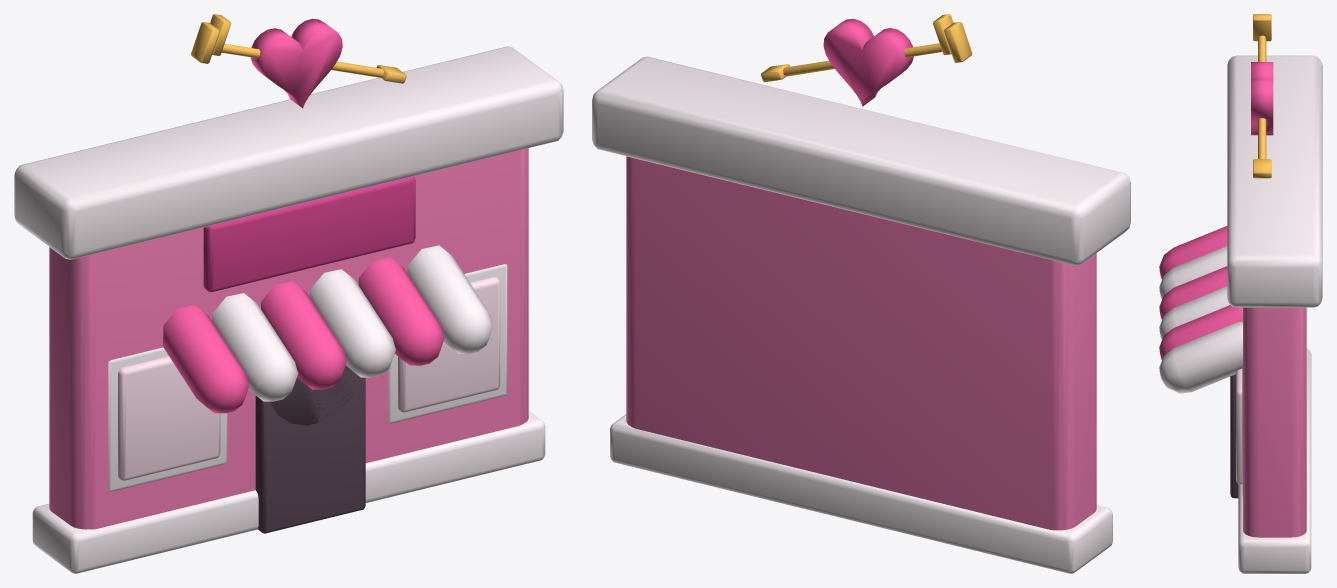
Rendered from facade_heartbreakerrange.obj.
3 renders of one model, left to right at view 1: azimuth 30°, elevation 25°; view 2: azimuth 150°, elevation 25°; view 3: azimuth 270°, elevation 25°, orthographic. The views are drawn at different scales.
Visible parts, largest first — view 1: Wall, Roof, Trim, AwningA, AwningB, Windows, Door, Sign, Frames, Topper, TopperB; view 2: Wall, Roof, Trim, Topper, TopperB; view 3: Roof, Wall, AwningB, AwningA, Trim, Topper, TopperB, Windows, Door.
Part boxes in pixels (x1,y1,x2,y2): Wall: [49, 148, 528, 529]; Roof: [14, 46, 563, 259]; Trim: [32, 411, 545, 573]; AwningA: [163, 257, 444, 413]; AwningB: [212, 245, 493, 401]; Windows: [118, 277, 500, 480]; Door: [255, 365, 365, 533]; Sign: [203, 176, 415, 292]; Frames: [108, 264, 507, 491]; Topper: [250, 18, 342, 108]; TopperB: [191, 14, 406, 83]; Wall: [626, 156, 1096, 530]; Roof: [592, 56, 1130, 265]; Trim: [610, 414, 1112, 573]; Topper: [823, 18, 913, 106]; TopperB: [761, 14, 972, 82]; Roof: [1227, 55, 1322, 307]; Wall: [1243, 307, 1306, 537]; AwningB: [1159, 246, 1242, 393]; AwningA: [1159, 226, 1242, 359]; Trim: [1238, 348, 1311, 573]; Topper: [1251, 62, 1273, 135]; TopperB: [1253, 14, 1271, 178]; Windows: [1236, 369, 1242, 484]; Door: [1230, 374, 1238, 498].
Size of the model in its own units: 15.4 by 15 by 5.14.
